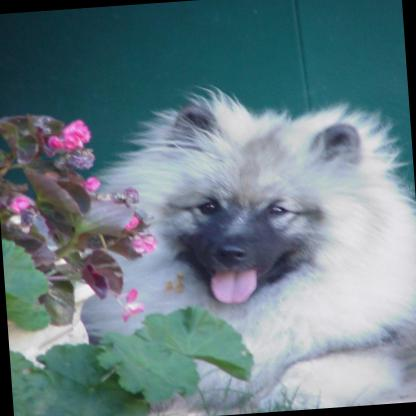keeshond: (84, 80, 416, 416)
